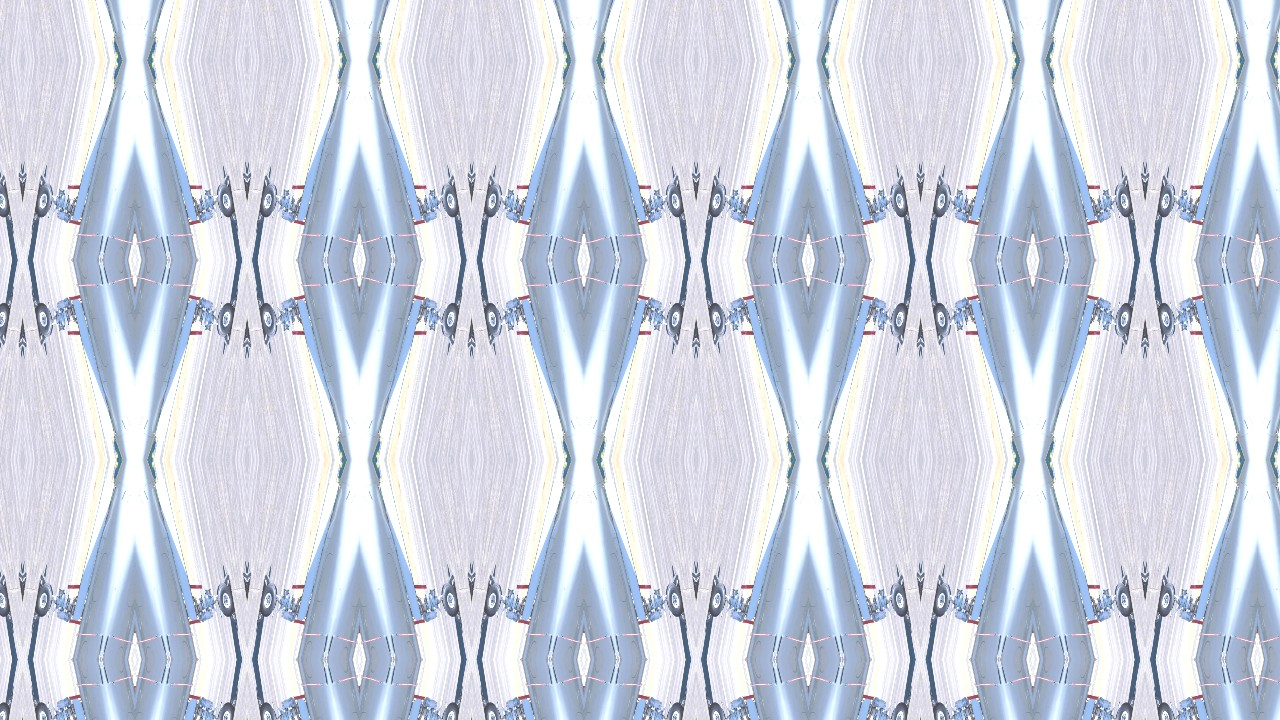chock: (37, 172, 47, 189), (221, 172, 231, 189), (262, 172, 272, 189), (446, 172, 456, 189), (487, 172, 497, 189), (671, 172, 681, 189), (712, 172, 722, 189), (896, 172, 906, 189), (937, 172, 947, 189), (1121, 172, 1131, 189), (1162, 172, 1172, 189), (37, 331, 47, 348), (221, 331, 231, 348), (262, 331, 272, 348), (446, 331, 456, 348), (487, 331, 497, 348), (671, 331, 681, 348), (712, 331, 722, 348), (896, 331, 906, 348), (937, 331, 947, 348), (1121, 331, 1131, 348), (1162, 331, 1172, 348), (37, 572, 47, 589), (221, 572, 231, 589), (262, 572, 272, 589), (446, 572, 456, 589), (487, 572, 497, 589), (671, 572, 681, 589), (712, 572, 722, 589), (896, 572, 906, 589), (937, 572, 947, 589), (1121, 572, 1131, 589), (1162, 572, 1172, 589), (4, 211, 12, 226), (31, 211, 39, 226), (229, 211, 237, 226), (256, 211, 264, 226), (454, 211, 462, 226), (481, 211, 489, 226), (679, 211, 687, 226), (706, 211, 714, 226), (904, 211, 912, 226), (931, 211, 939, 226), (1129, 211, 1137, 226), (1156, 211, 1164, 226), (4, 294, 12, 309), (31, 294, 39, 309), (229, 294, 237, 309), (256, 294, 264, 309), (454, 294, 462, 309), (481, 294, 489, 309), (679, 294, 687, 309), (706, 294, 714, 309), (904, 294, 912, 309), (931, 294, 939, 309), (1129, 294, 1137, 309), (1156, 294, 1164, 309), (4, 611, 12, 626), (31, 611, 39, 626), (229, 611, 237, 626), (256, 611, 264, 626), (454, 611, 462, 626), (481, 611, 489, 626), (679, 611, 687, 626), (706, 611, 714, 626), (904, 611, 912, 626), (931, 611, 939, 626), (1129, 611, 1137, 626), (1156, 611, 1164, 626), (4, 694, 12, 709), (31, 694, 39, 709), (229, 694, 237, 709), (256, 694, 264, 709), (454, 694, 462, 709), (481, 694, 489, 709), (679, 694, 687, 709), (706, 694, 714, 709), (904, 694, 912, 709), (931, 694, 939, 709), (1129, 694, 1137, 709), (1156, 694, 1164, 709), (0, 172, 6, 189), (0, 331, 6, 348), (0, 572, 6, 589), (16, 169, 21, 186), (21, 169, 26, 186), (241, 169, 246, 186), (246, 169, 251, 186), (466, 169, 471, 186), (471, 169, 476, 186), (691, 169, 696, 186), (696, 169, 701, 186), (916, 169, 921, 186), (921, 169, 926, 186), (1141, 169, 1146, 186), (1146, 169, 1151, 186), (16, 334, 21, 351), (21, 334, 26, 351), (241, 334, 246, 351), (246, 334, 251, 351), (466, 334, 471, 351), (471, 334, 476, 351), (691, 334, 696, 351), (696, 334, 701, 351), (916, 334, 921, 351), (921, 334, 926, 351), (1141, 334, 1146, 351), (1146, 334, 1151, 351), (16, 569, 21, 586), (21, 569, 26, 586), (241, 569, 246, 586), (246, 569, 251, 586), (466, 569, 471, 586), (471, 569, 476, 586), (691, 569, 696, 586), (696, 569, 701, 586), (916, 569, 921, 586), (921, 569, 926, 586), (1141, 569, 1146, 586), (1146, 569, 1151, 586)
wheel: (213, 179, 236, 221), (888, 179, 911, 221), (1113, 179, 1136, 221), (213, 299, 236, 341), (888, 299, 911, 341), (1113, 299, 1136, 341), (213, 579, 236, 621), (888, 579, 911, 621), (1113, 579, 1136, 621), (32, 179, 54, 221), (257, 179, 279, 221), (438, 179, 460, 221), (482, 179, 504, 221), (663, 179, 685, 221), (707, 179, 729, 221), (932, 179, 954, 221), (1157, 179, 1179, 221), (32, 299, 54, 341), (257, 299, 279, 341), (438, 299, 460, 341), (482, 299, 504, 341), (663, 299, 685, 341), (707, 299, 729, 341), (932, 299, 954, 341), (1157, 299, 1179, 341), (32, 579, 54, 621), (257, 579, 279, 621), (438, 579, 460, 621), (482, 579, 504, 621), (663, 579, 685, 621), (707, 579, 729, 621), (932, 579, 954, 621), (1157, 579, 1179, 621), (213, 699, 236, 720), (888, 699, 911, 720), (1113, 699, 1136, 720), (32, 699, 54, 720), (257, 699, 279, 720), (438, 699, 460, 720), (482, 699, 504, 720), (663, 699, 685, 720), (707, 699, 729, 720), (932, 699, 954, 720), (1157, 699, 1179, 720), (0, 179, 10, 221), (0, 299, 10, 341), (0, 579, 10, 621), (213, 183, 225, 213), (438, 183, 450, 213), (663, 183, 675, 213), (888, 183, 900, 213), (1113, 183, 1125, 213), (213, 307, 225, 337), (438, 307, 450, 337), (663, 307, 675, 337), (888, 307, 900, 337), (1113, 307, 1125, 337), (213, 583, 225, 613), (438, 583, 450, 613), (663, 583, 675, 613), (888, 583, 900, 613), (1113, 583, 1125, 613), (43, 183, 54, 213), (268, 183, 279, 213), (493, 183, 504, 213), (718, 183, 729, 213), (943, 183, 954, 213), (1168, 183, 1179, 213), (43, 307, 54, 337), (268, 307, 279, 337), (493, 307, 504, 337), (718, 307, 729, 337), (943, 307, 954, 337), (1168, 307, 1179, 337), (43, 583, 54, 613), (268, 583, 279, 613), (493, 583, 504, 613), (718, 583, 729, 613), (943, 583, 954, 613), (1168, 583, 1179, 613), (0, 699, 10, 720), (213, 707, 225, 720), (438, 707, 450, 720), (663, 707, 675, 720), (888, 707, 900, 720), (1113, 707, 1125, 720), (43, 707, 54, 720), (268, 707, 279, 720), (493, 707, 504, 720), (718, 707, 729, 720), (943, 707, 954, 720), (1168, 707, 1179, 720)
